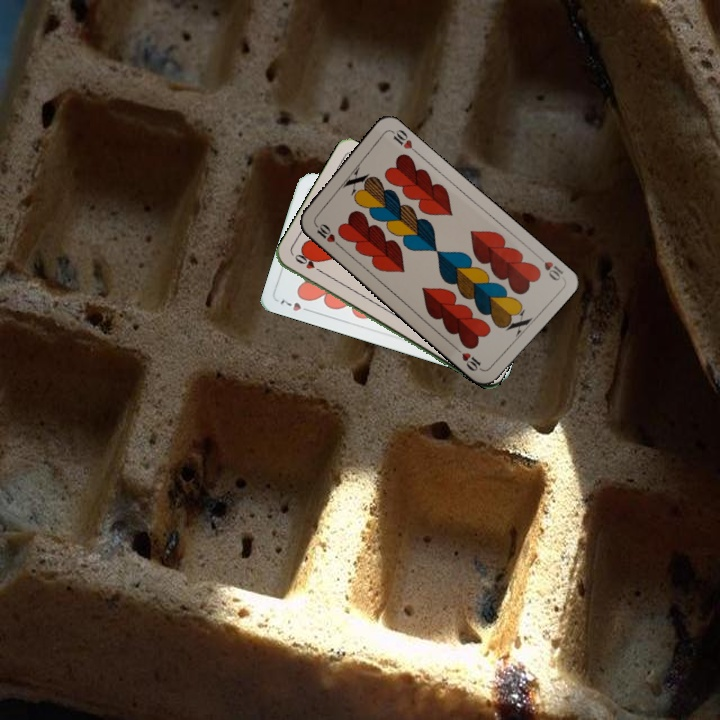H10: (532, 251, 566, 283), (310, 218, 343, 250)
H7: (276, 296, 315, 315)
HO: (290, 250, 327, 276)
